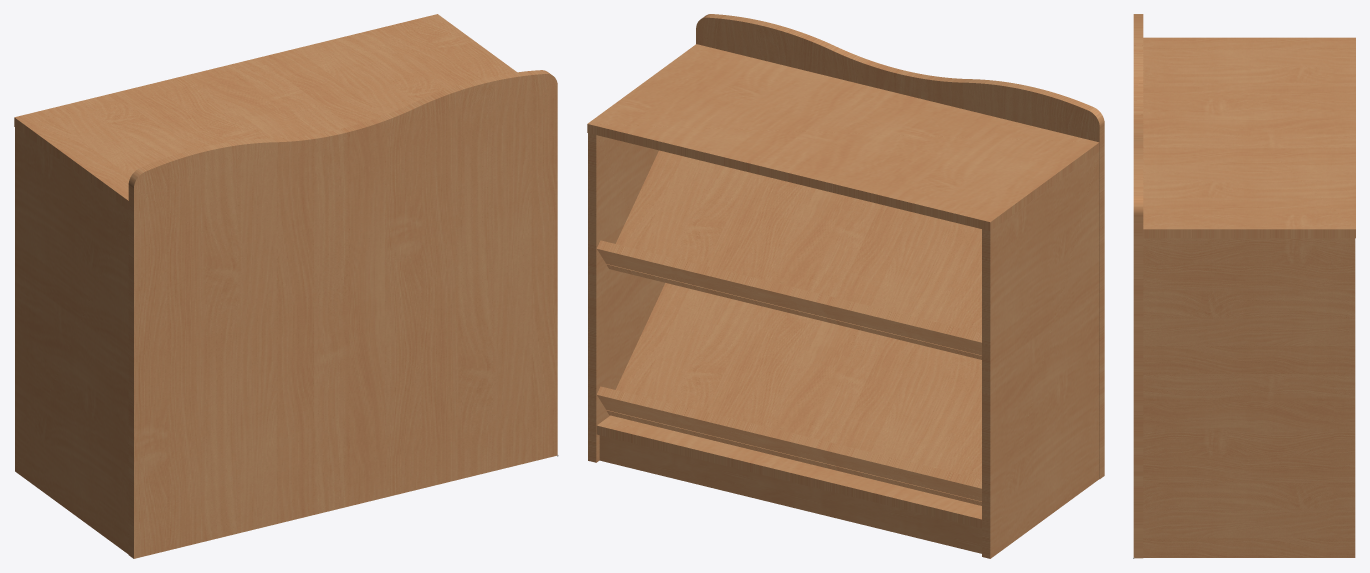
Rendered from vitrina_ot_nabora_magazin_igrovoj_3.glb.
The picture shows the model from 3 angles, left to right: view 1: azimuth 30°, elevation 25°; view 2: azimuth 150°, elevation 25°; view 3: azimuth 270°, elevation 25°; orthographic projection. The views are drawn at different scales.
Parts seen in each view (by area): view 1: Shape_IndexedFaceSet, Shape_IndexedFaceSet.004, Shape_IndexedFaceSet.005; view 2: Shape_IndexedFaceSet.005, Shape_IndexedFaceSet.007, Shape_IndexedFaceSet.004, Shape_IndexedFaceSet.006, Shape_IndexedFaceSet, Shape_IndexedFaceSet.003, Shape_IndexedFaceSet.002, Shape_IndexedFaceSet.001, Shape_IndexedFaceSet.008, Shape_IndexedFaceSet.009; view 3: Shape_IndexedFaceSet.003, Shape_IndexedFaceSet.005, Shape_IndexedFaceSet.
Boxes of the visible parts, x1,y1,x2,y2 form: Shape_IndexedFaceSet: (128,70,557,558); Shape_IndexedFaceSet.004: (15,127,128,554); Shape_IndexedFaceSet.005: (14,14,516,209); Shape_IndexedFaceSet.005: (587,44,1099,231); Shape_IndexedFaceSet.007: (606,283,981,505); Shape_IndexedFaceSet.004: (982,152,1099,558); Shape_IndexedFaceSet.006: (606,150,981,359); Shape_IndexedFaceSet: (696,14,1104,479); Shape_IndexedFaceSet.003: (588,133,664,462); Shape_IndexedFaceSet.002: (599,435,981,553); Shape_IndexedFaceSet.001: (596,415,981,528); Shape_IndexedFaceSet.008: (596,240,981,355); Shape_IndexedFaceSet.009: (597,386,981,501); Shape_IndexedFaceSet.003: (1143,238,1355,557); Shape_IndexedFaceSet.005: (1143,37,1355,238); Shape_IndexedFaceSet: (1133,14,1143,558).
Size of the model in its own units: 753 by 662 by 369.
Materials: 11 (10 with a texture image).
